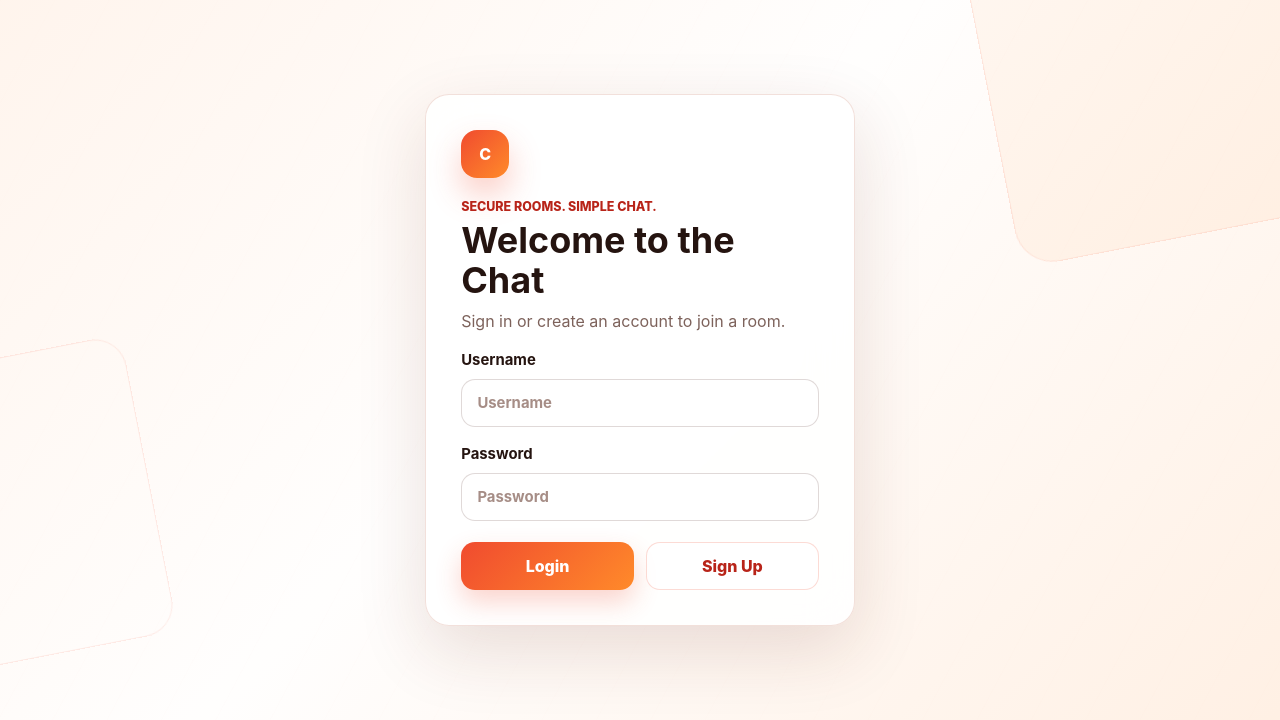
Scenario: technical errors remain errors and are not labeled as security blocks
This screenshot has width=1280, height=720.
Step 1. Type "alice" into the field with placeholder "Username" → (640, 403), box left=461, top=379, right=819, bottom=427
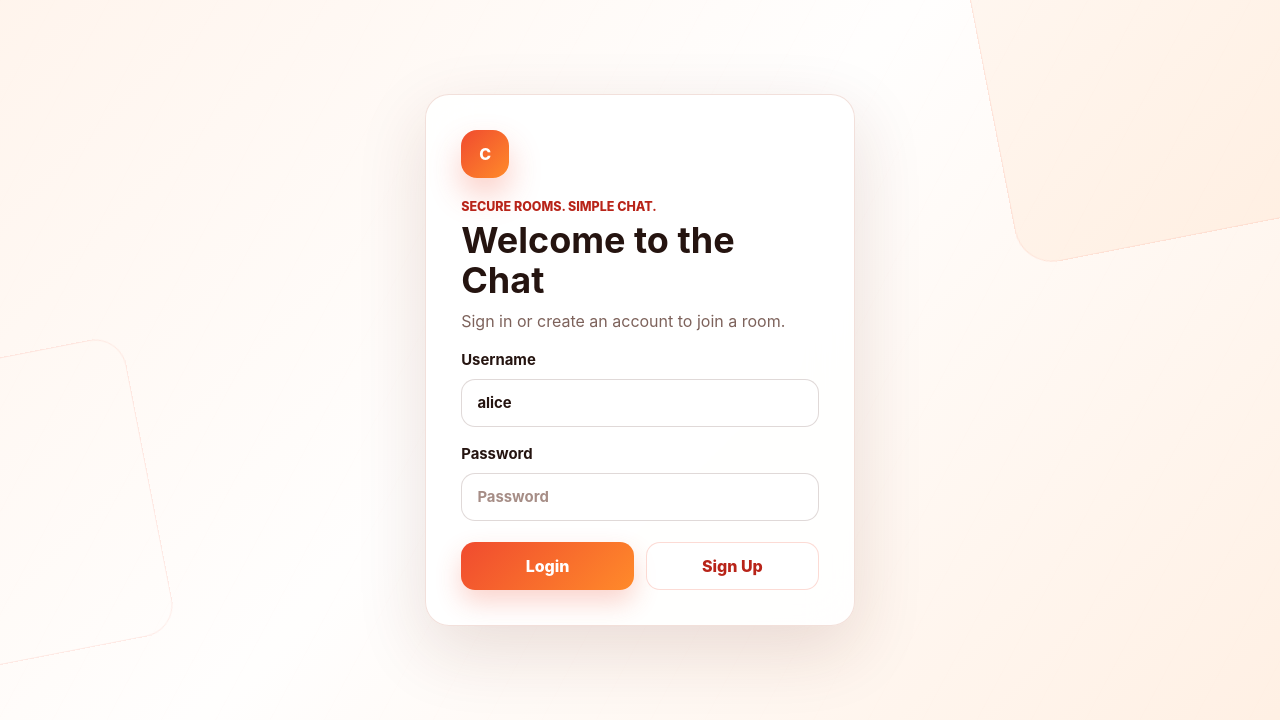
Step 2. Type "password" into the password field with placeholder "Password" → (640, 497), box left=461, top=473, right=819, bottom=521
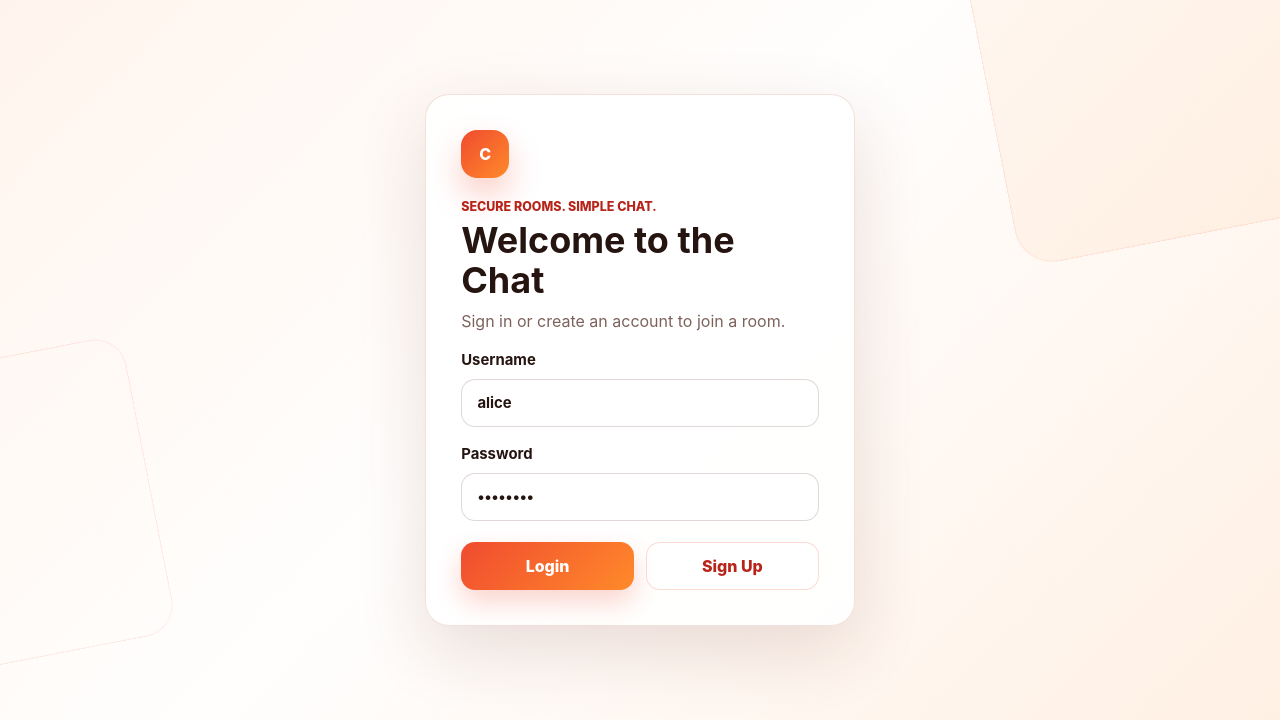
Step 3. Click the button "Login" → (548, 566), box left=461, top=542, right=634, bottom=590
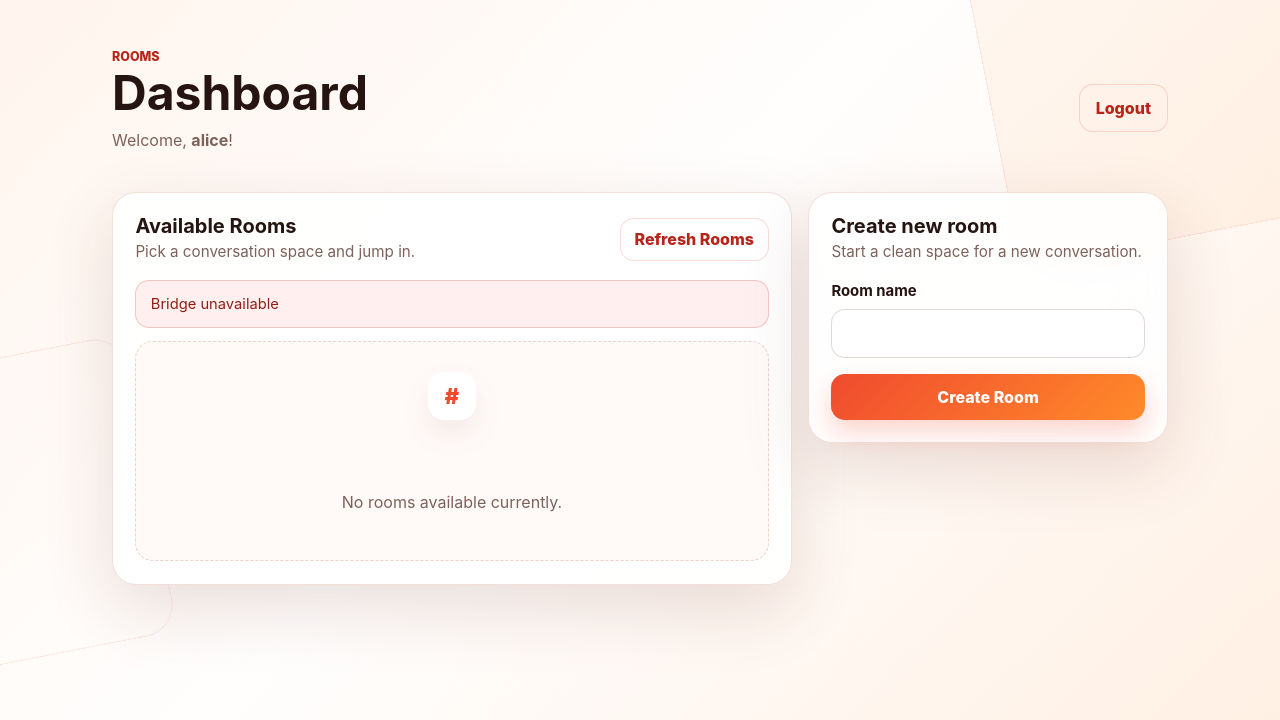
Expected: the text "Bridge unavailable" is shown, left=135, top=280, right=769, bottom=328
